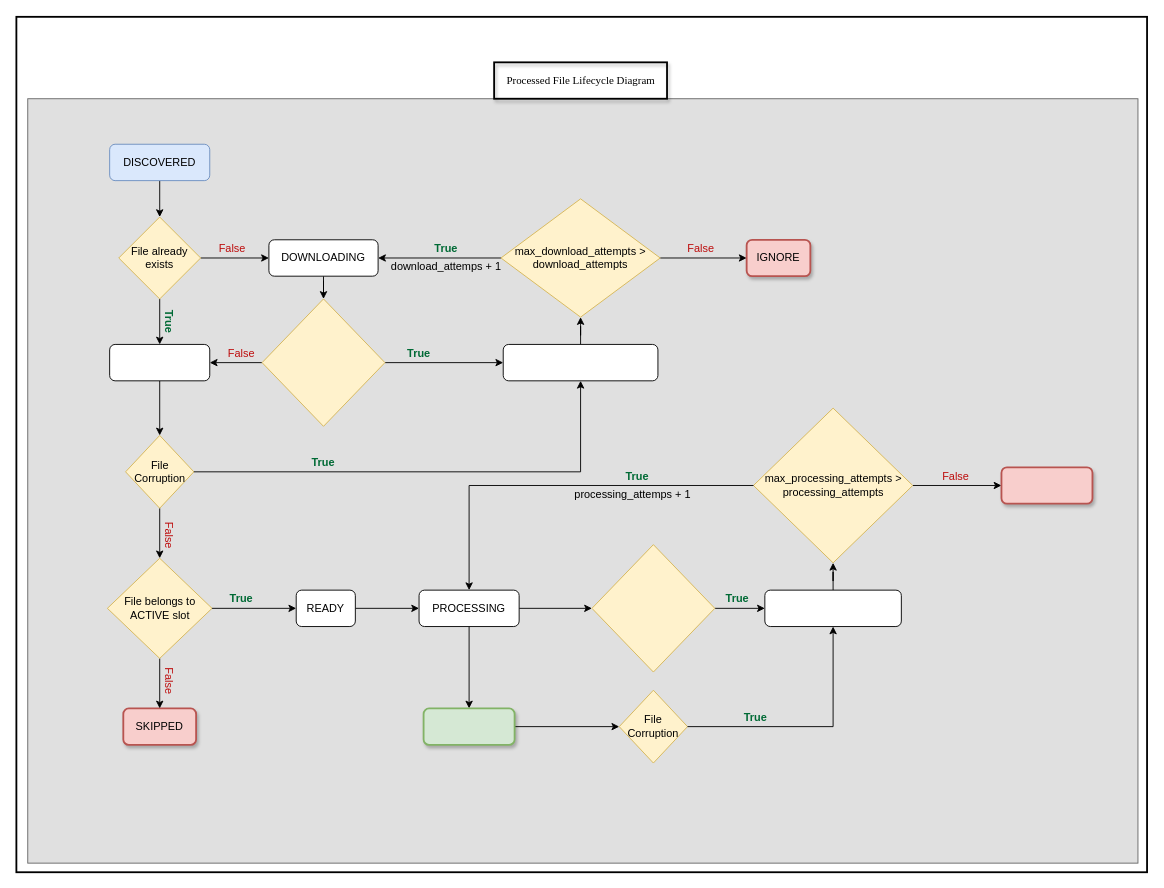
Some shapes in this 1164 by 888 pixel diagram are drawn without their labels. The shapes that lost their labels are listed below. From the top down, each one's centre as x and y in pixels, then its label:
(159,362): DOWNLOADED
(323,362): System Crash OR Download Timeout
(580,362): DOWNLOADING_FAILED
(1047,486): ABANDONED
(653,608): System Crash OR Processing Timeout
(832,608): PROCESSING_FAILED
(470,727): PROCESSED
